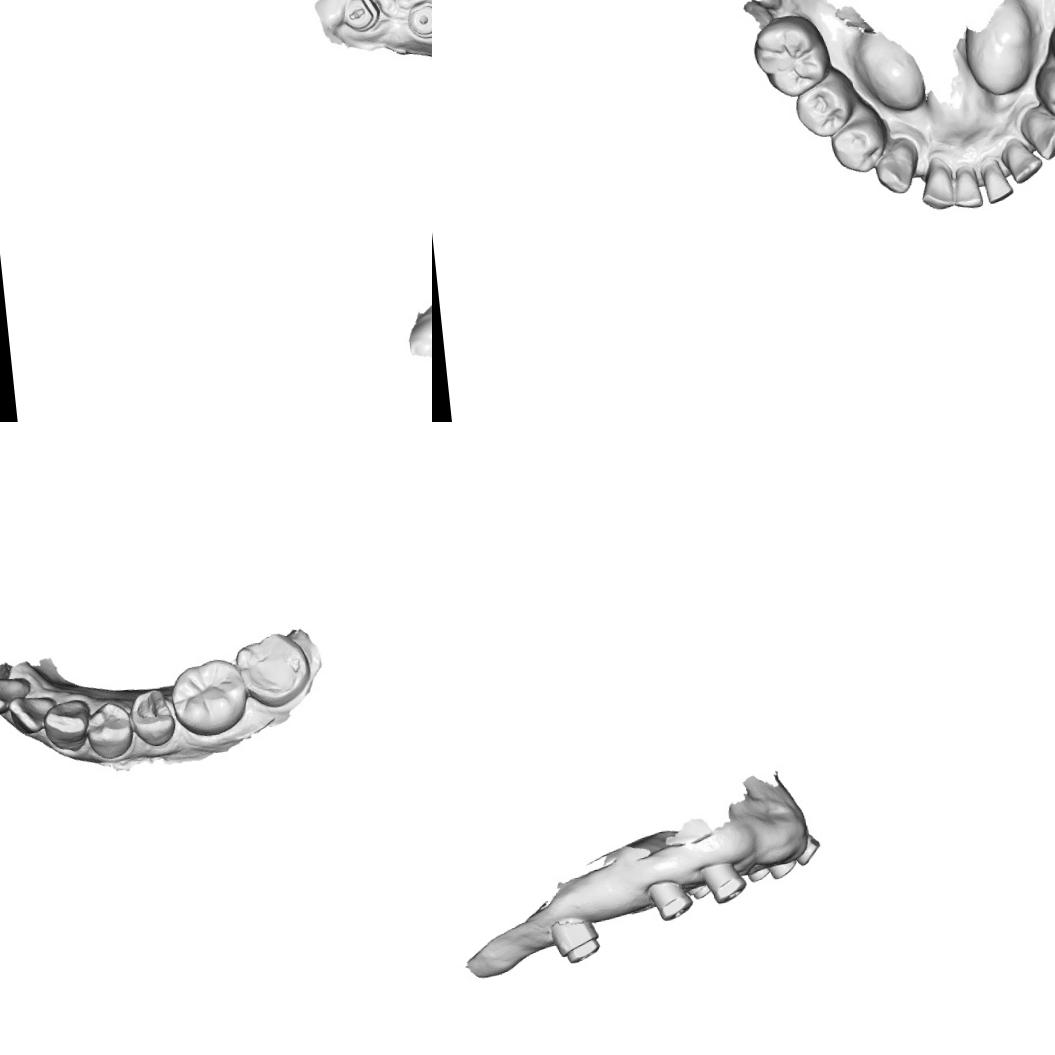canine: (41, 697, 93, 755), (872, 142, 919, 197), (1021, 108, 1055, 163)
implant: (548, 913, 602, 967), (697, 858, 749, 908), (644, 875, 696, 924), (402, 0, 432, 42), (794, 830, 824, 868), (768, 858, 802, 881), (746, 865, 773, 883)
implant_minus: (340, 0, 382, 36)
incisor: (7, 692, 60, 736), (1002, 136, 1046, 185), (917, 164, 957, 214), (0, 670, 35, 716), (980, 161, 1014, 207), (950, 167, 985, 211)
inlay: (133, 686, 174, 733)
molar: (747, 10, 836, 102), (166, 655, 252, 740), (232, 628, 316, 712)
premolar: (792, 74, 858, 141), (827, 114, 891, 177), (82, 698, 137, 763), (1032, 61, 1055, 128)
